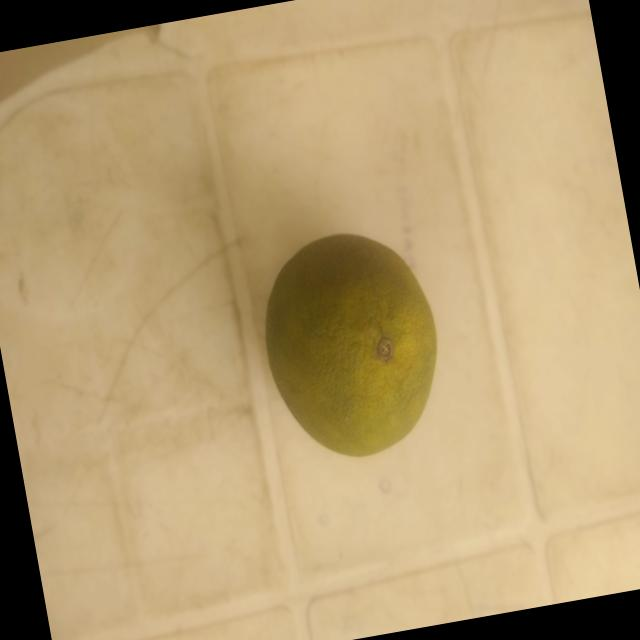Unripe: (195, 190, 486, 523)
